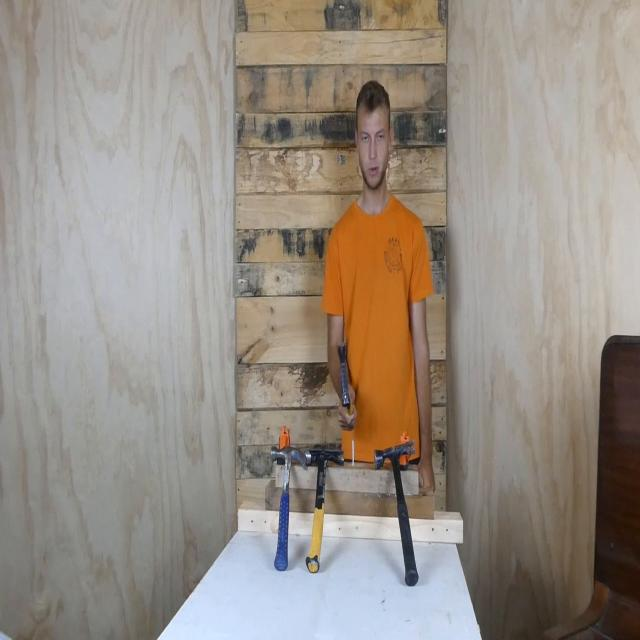hammer: (374, 439, 419, 585), (305, 448, 344, 573), (270, 446, 306, 570), (336, 339, 356, 418)
